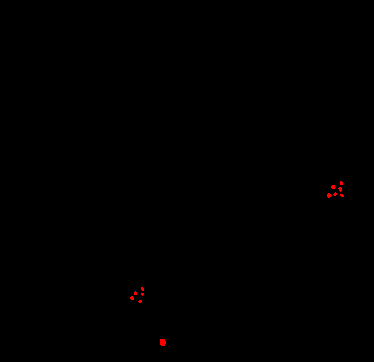Target: (160, 339, 166, 346), (327, 193, 332, 198), (331, 185, 336, 189), (338, 187, 342, 192), (333, 192, 337, 196), (130, 296, 134, 300), (340, 181, 343, 185), (340, 194, 344, 197), (141, 287, 144, 291), (134, 291, 137, 295), (138, 300, 142, 303), (141, 293, 144, 296)
